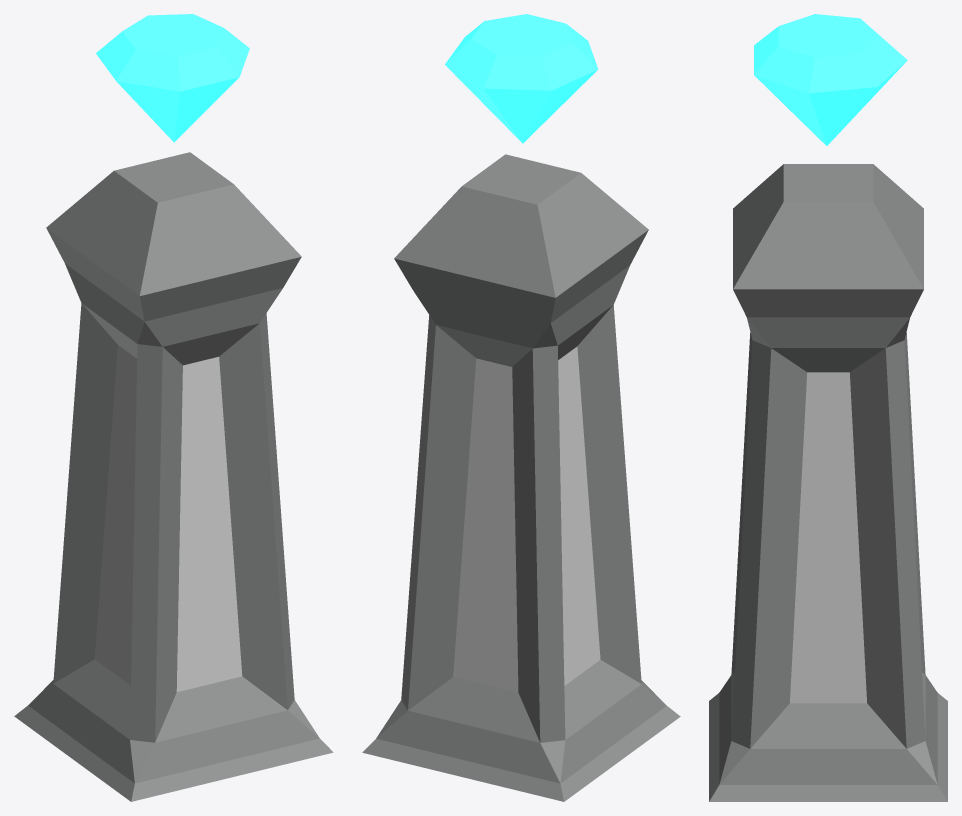
Rendered from BLUEGLOW.fbx.
3 renders of one model, left to right at view 1: azimuth 30°, elevation 25°; view 2: azimuth 150°, elevation 25°; view 3: azimuth 270°, elevation 25°, orthographic. The views are drawn at different scales.
Visible parts, largest first — view 1: Plane, Plane.001, Cone.001; view 2: Plane, Plane.001, Cone.001; view 3: Plane, Plane.001, Cone.001.
Boxes of the visible parts, bbox=[...] form: Plane: bbox=[14, 152, 333, 801]; Plane.001: bbox=[94, 345, 242, 691]; Cone.001: bbox=[96, 14, 249, 142]; Plane: bbox=[362, 154, 680, 801]; Plane.001: bbox=[453, 346, 600, 692]; Cone.001: bbox=[445, 14, 598, 143]; Plane: bbox=[709, 164, 947, 801]; Plane.001: bbox=[790, 372, 866, 703]; Cone.001: bbox=[754, 14, 907, 145].
Size of the model in its own units: 157 by 520 by 157.
